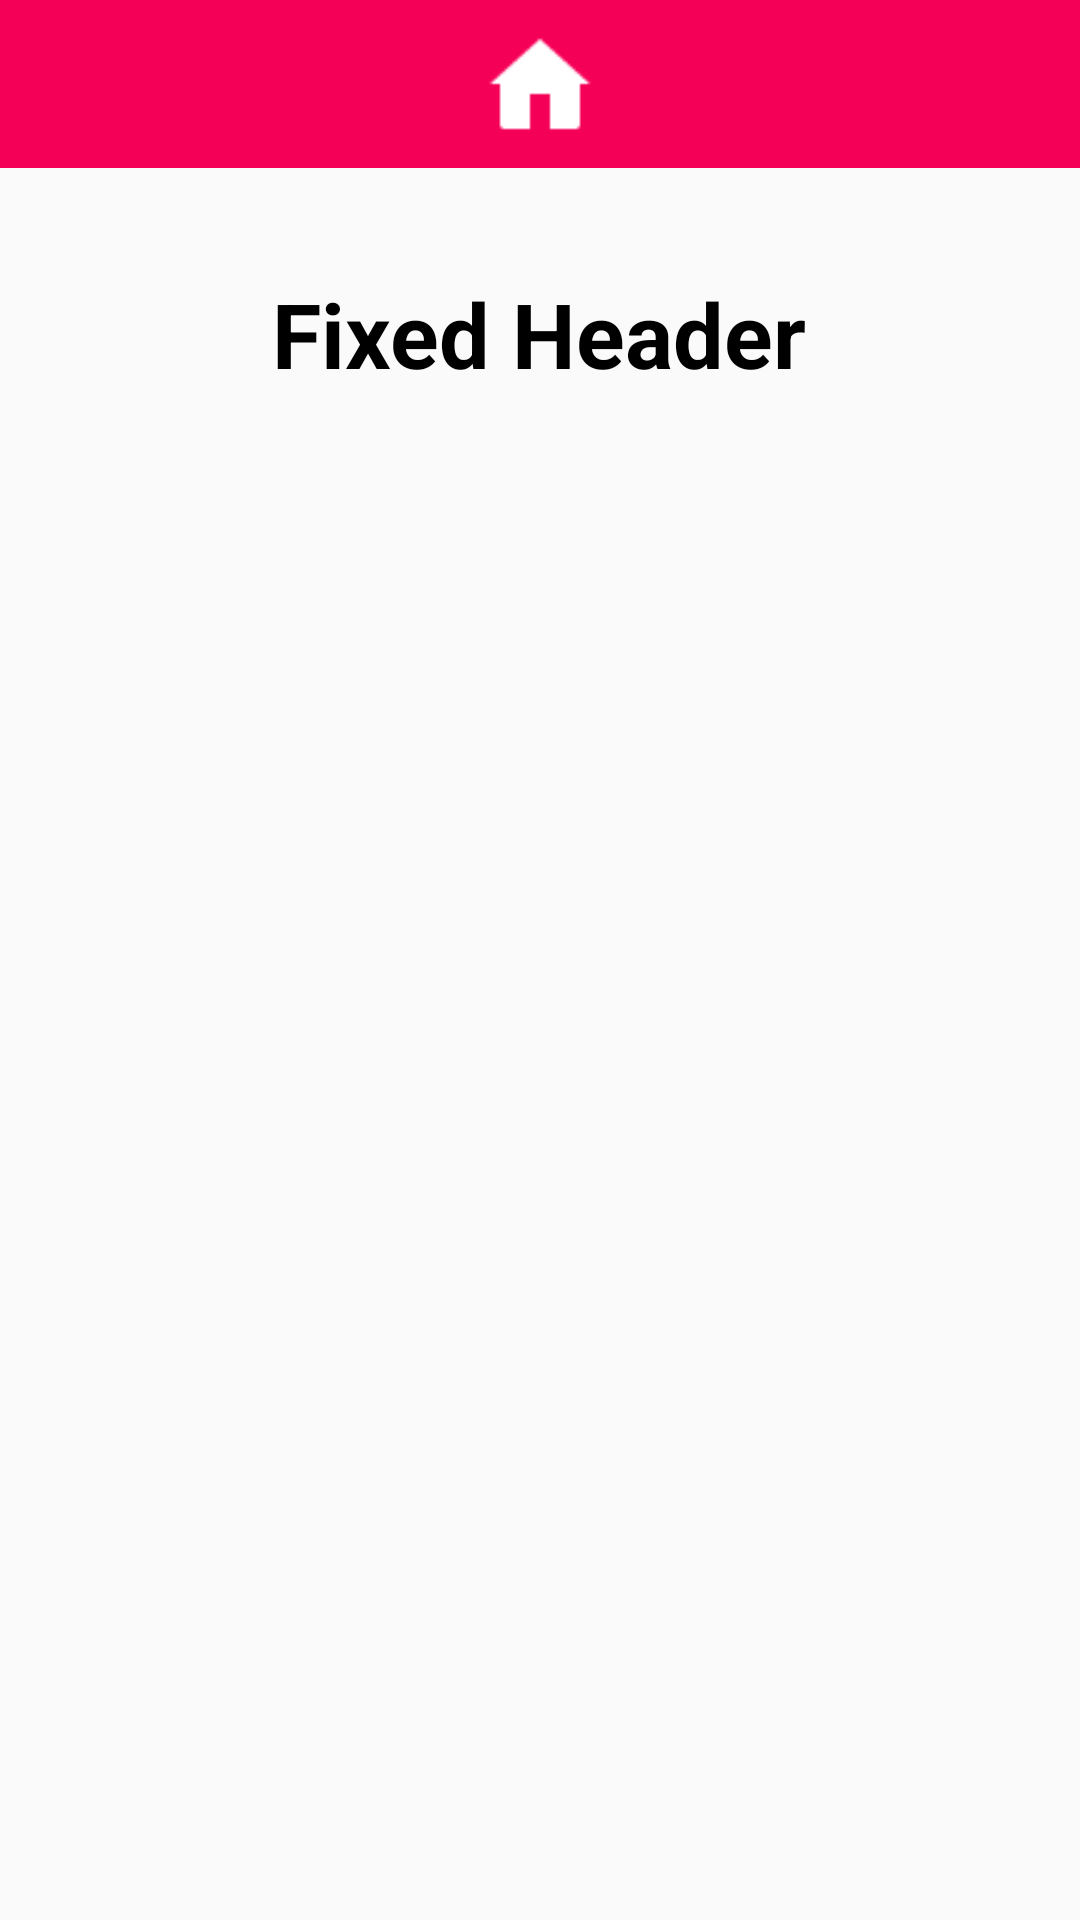

Icons on this 1080*1920 Android screen, each with its box as box=[x1, y1, x2, y2]:
home: box=[489, 38, 591, 130]
